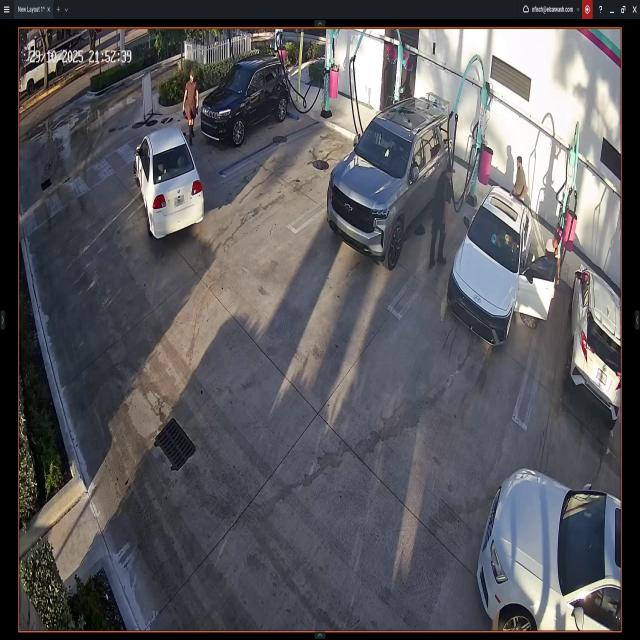Car: (478, 467, 621, 631), (326, 98, 454, 268), (452, 182, 556, 345), (569, 263, 621, 424), (200, 54, 291, 145), (138, 124, 205, 237)
